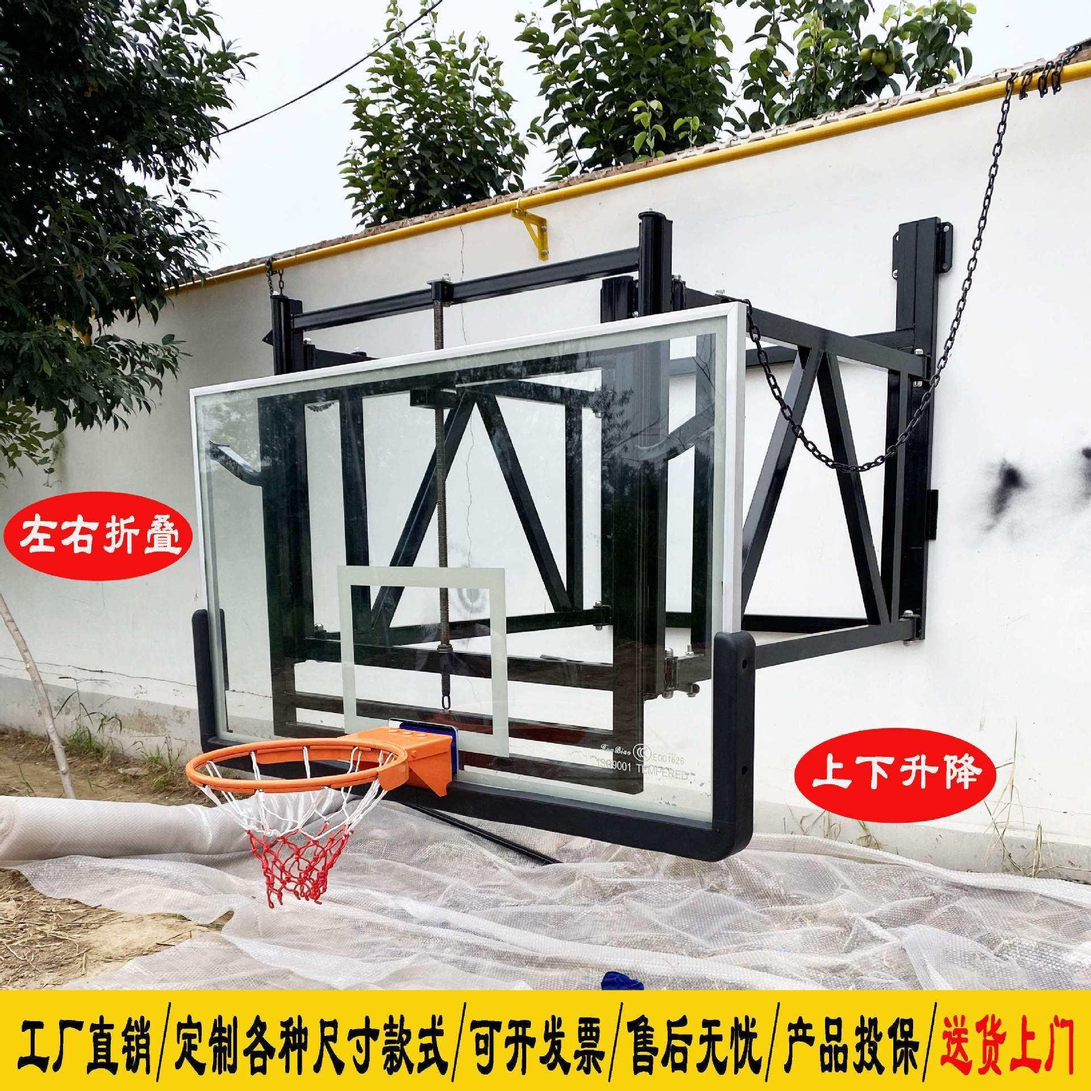rim: (188, 739, 411, 905)
